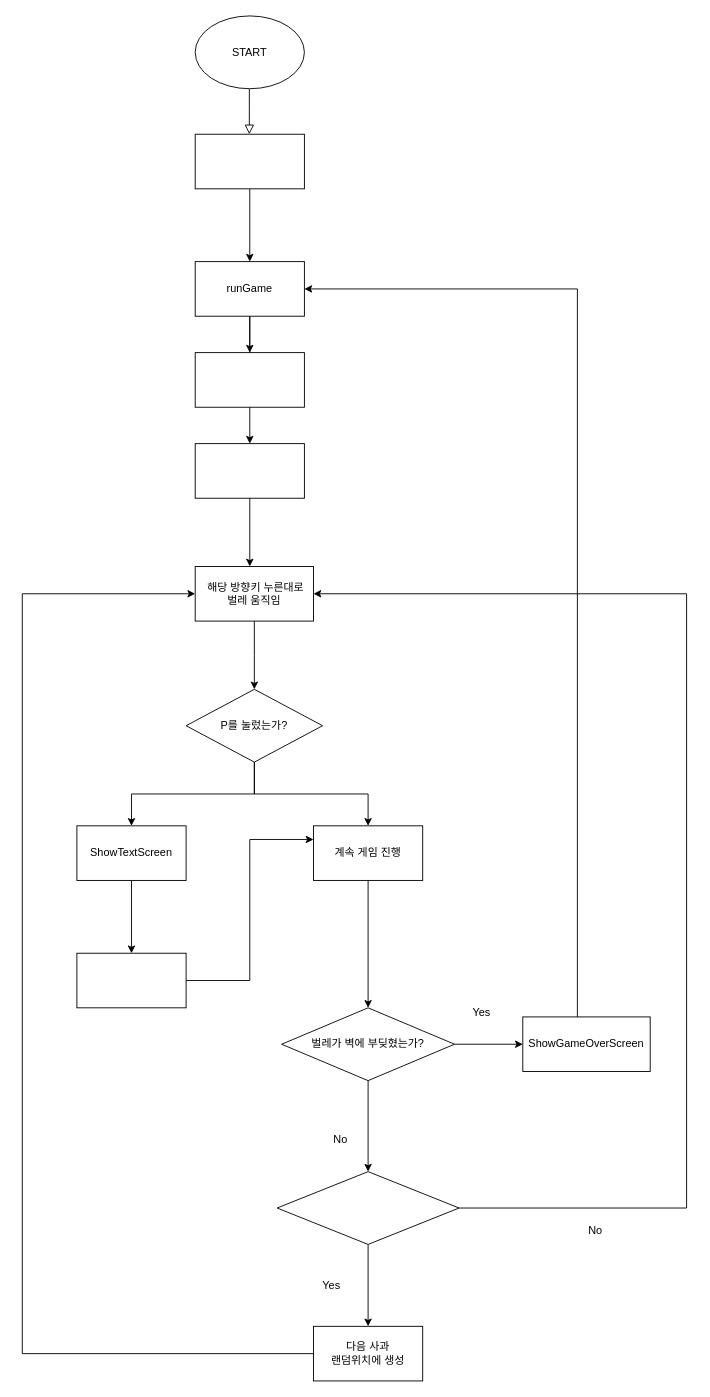
Image size: 710x1397. Some labels were removed from this diagram. The centre of each missing label's shape, as x and y in pixels:
P키 다시 뗌: the point at 131,980
ShowStartScreen: the point at 249,161
랜덤으로 음악재생: the point at 249,379
무슨 키 눌렸는지 확인: the point at 249,470
벌레가 사과를 먹었는가?: the point at 367,1207
